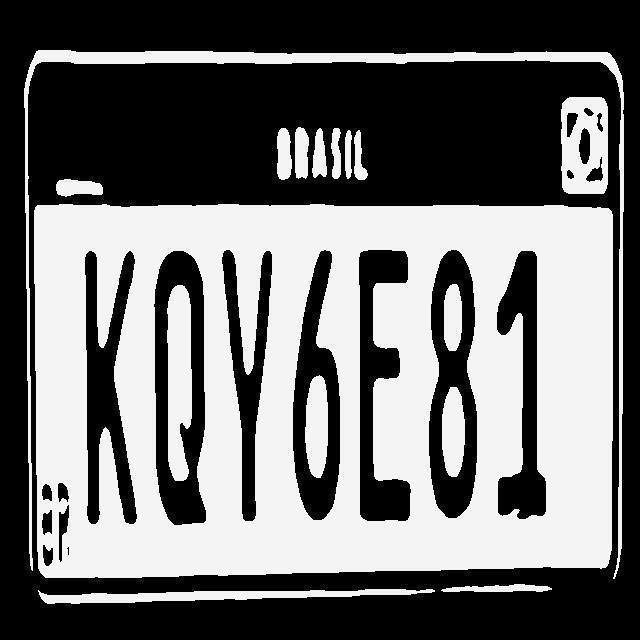1: (492, 247, 555, 522)
6: (284, 249, 346, 523)
8: (425, 246, 485, 526)
e: (353, 247, 419, 524)
k: (78, 246, 140, 531)
q: (150, 249, 212, 532)
y: (217, 246, 276, 526)
